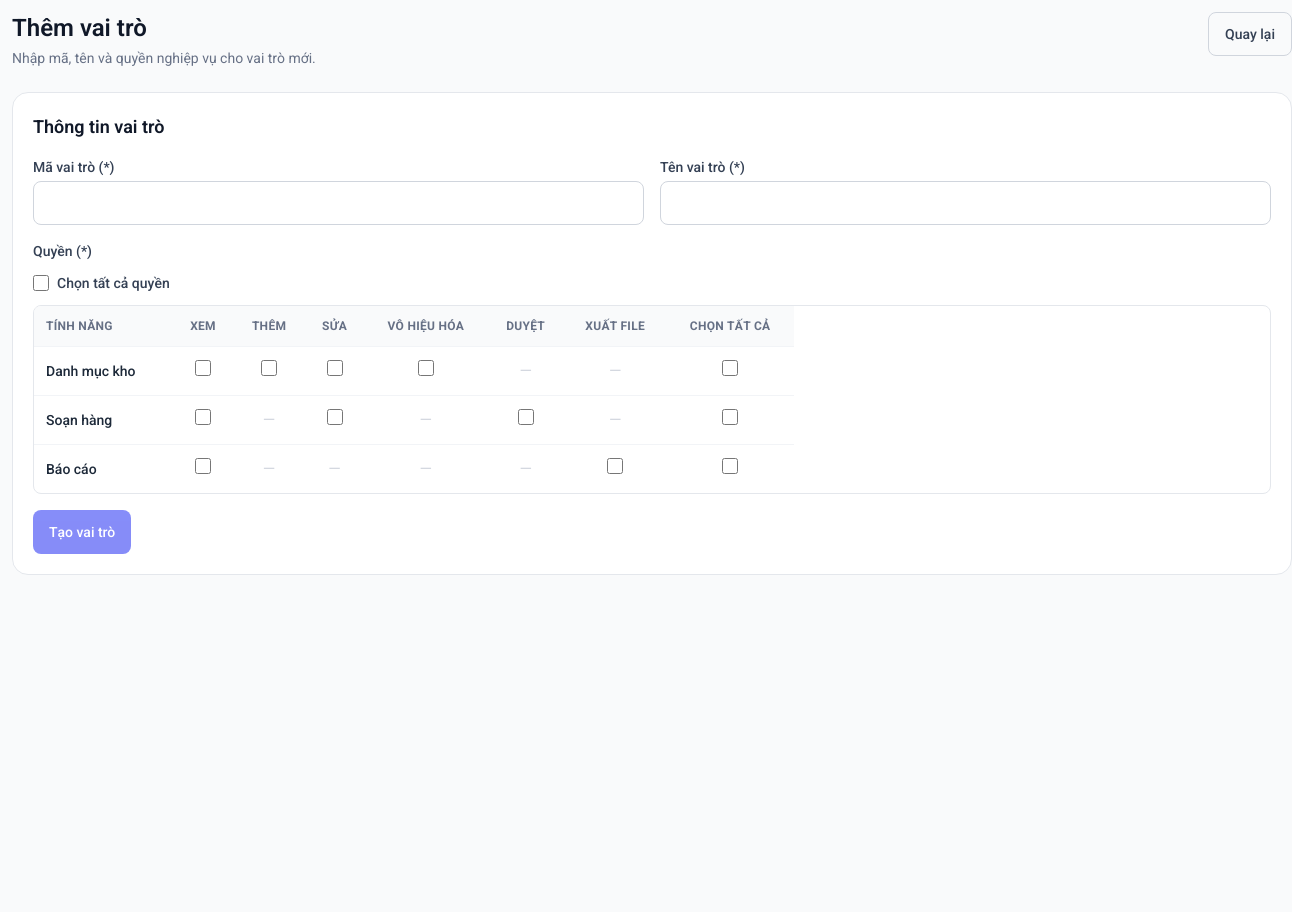
Test case: AccessPage › creates a picker role and displays it
Type "Picker Role" into the field labelled "Mã vai trò (*)" at (338, 203), box [33, 181, 644, 225]
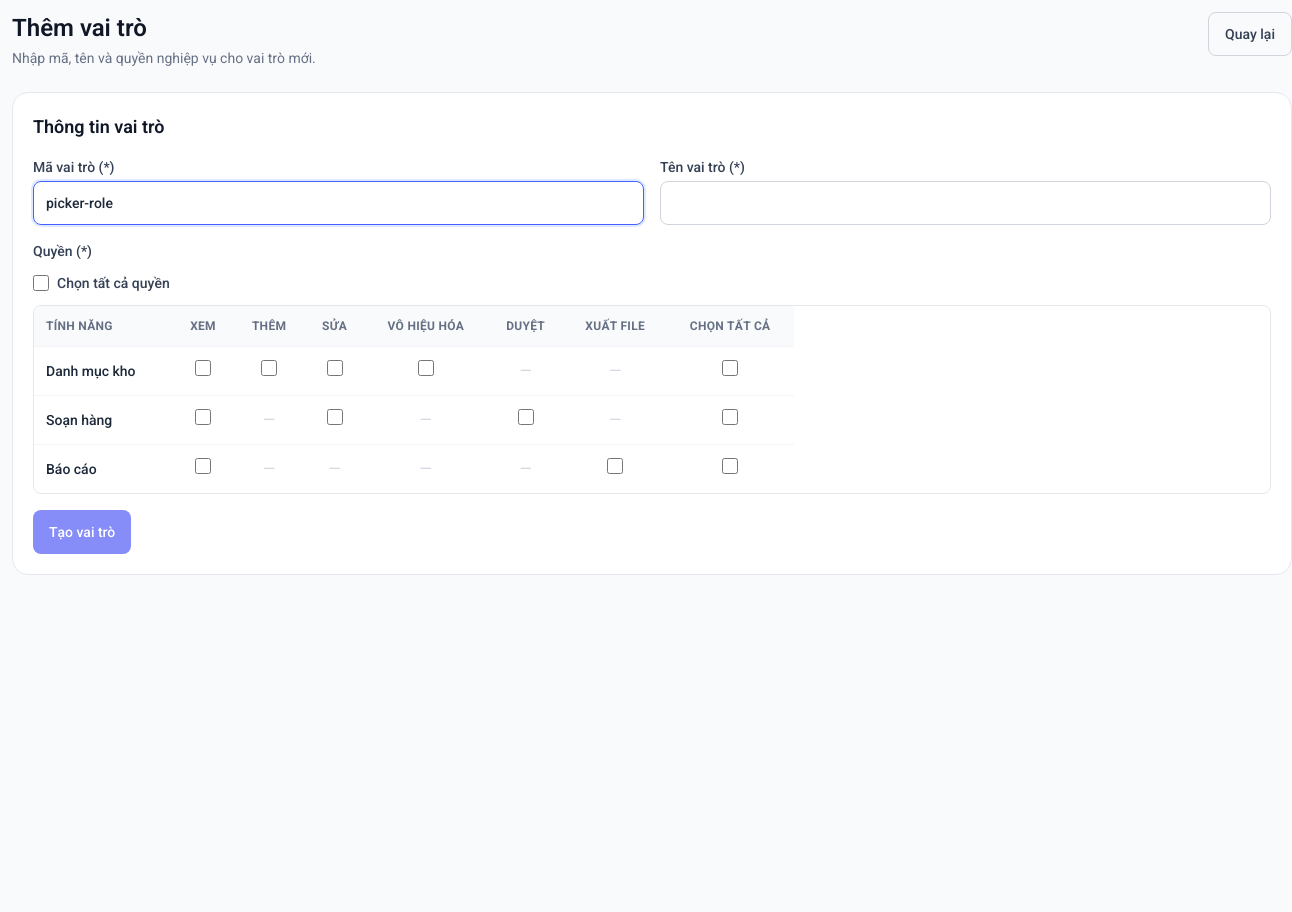
Type "Nhân viên soạn" into the field labelled "Tên vai trò (*)" at (966, 203), box [660, 181, 1271, 225]
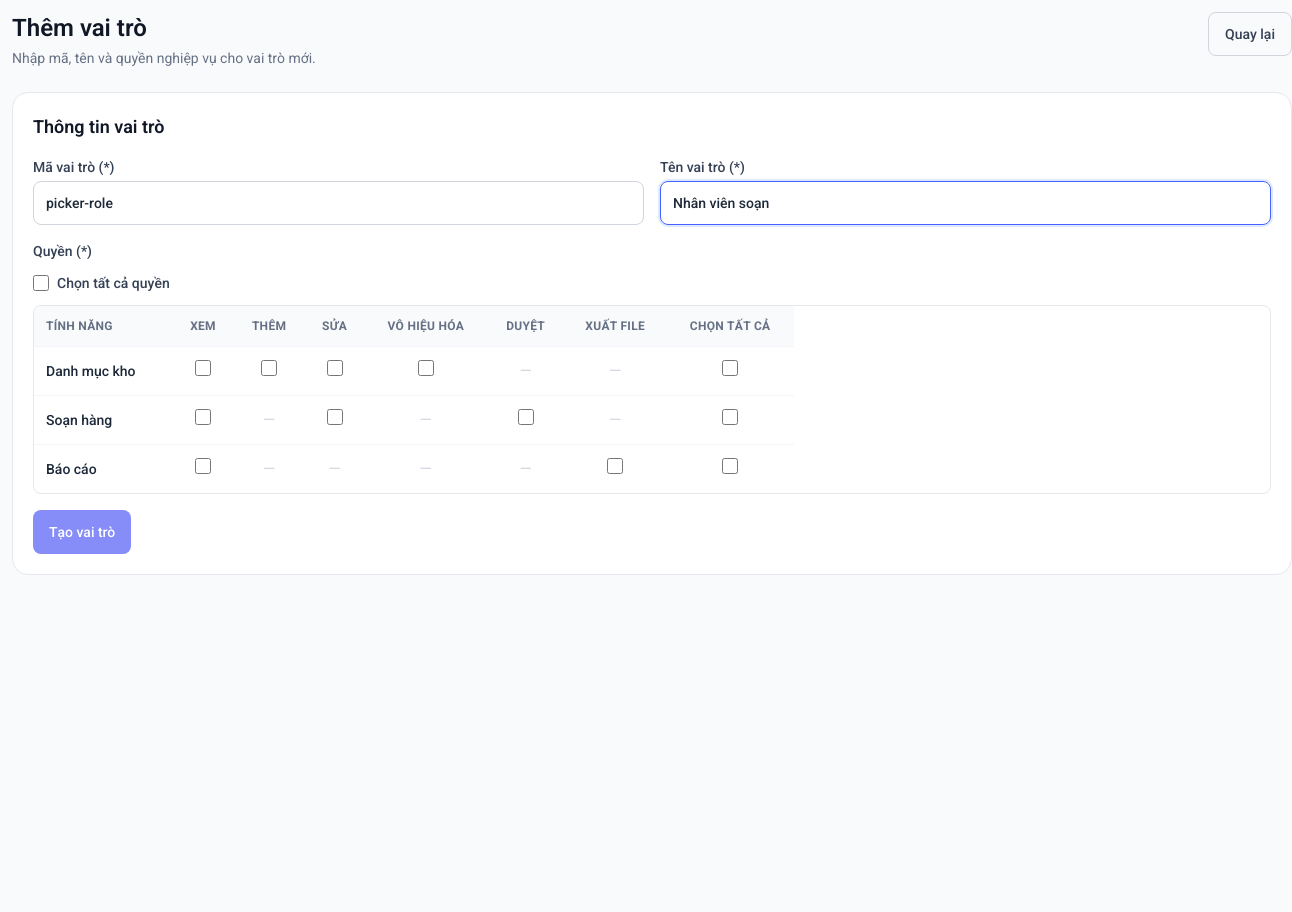
Expected: the table named "Ma trận quyền" is shown, [34, 306, 794, 493]
Click the checkbox named "Soạn hàng — Sửa" at (335, 417), box [327, 409, 343, 425]
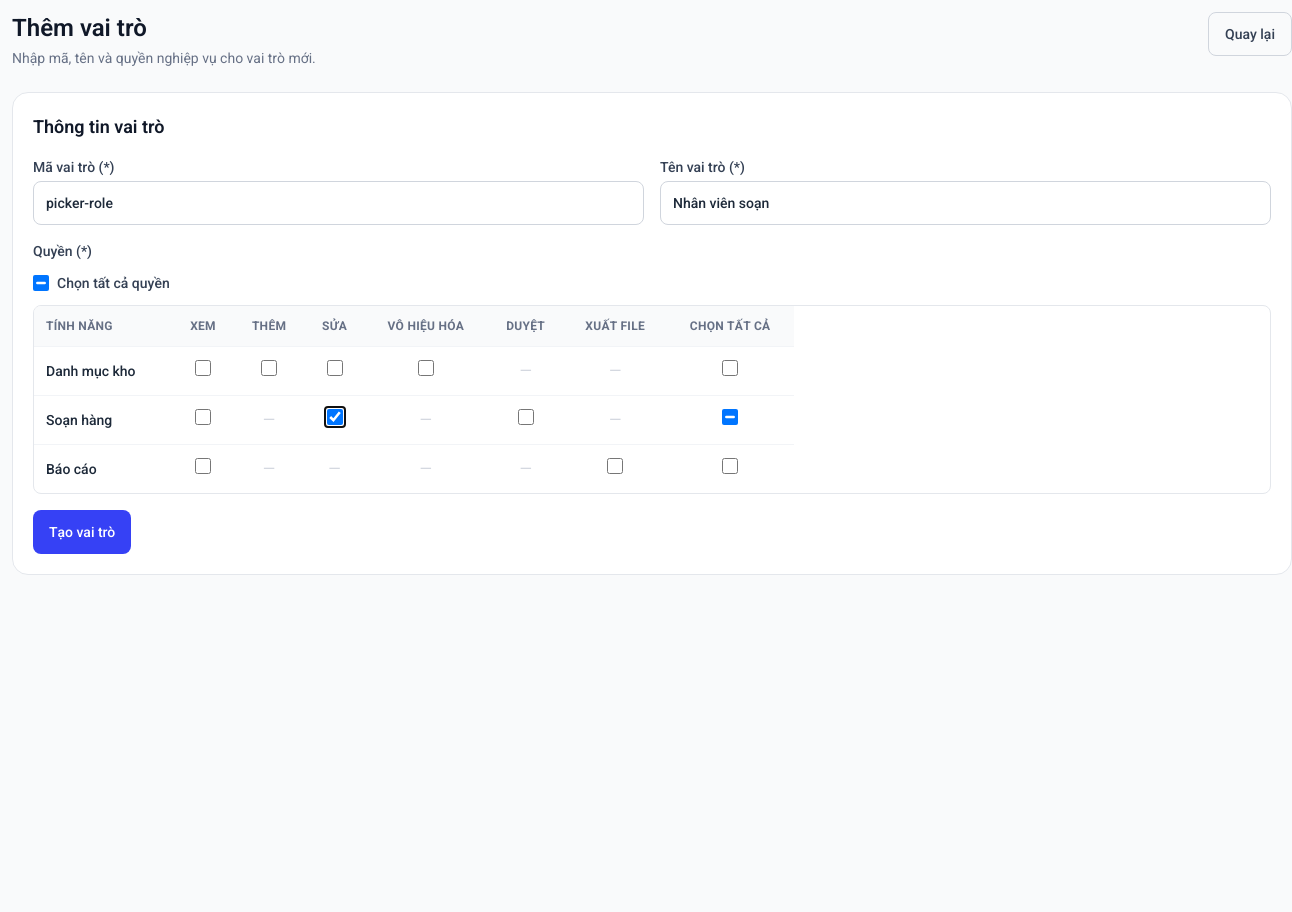
Click the button "Tạo vai trò" at (82, 532), box [33, 510, 131, 554]
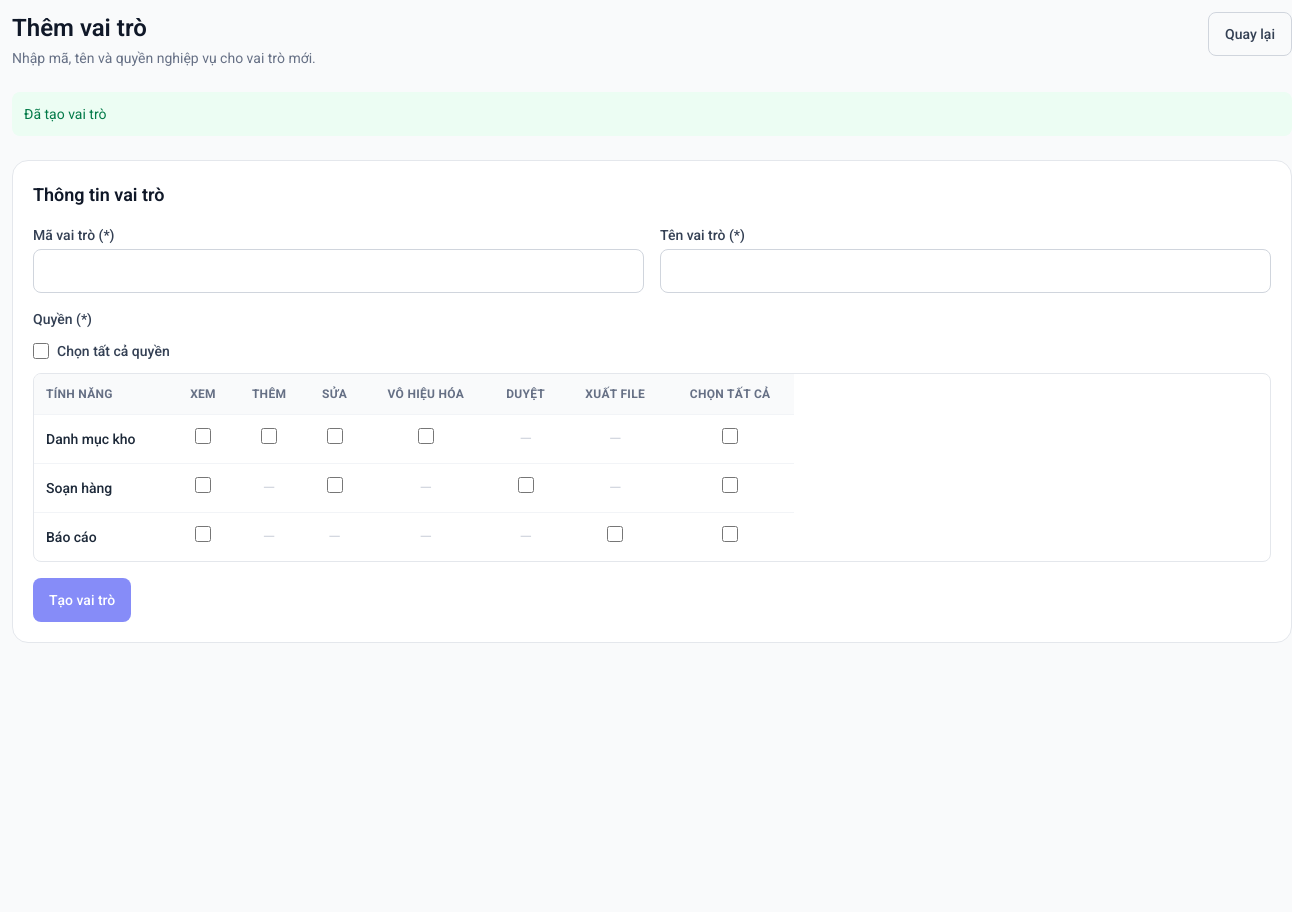
Result: the text "Đã tạo vai trò" is shown at [12, 92, 1291, 136]
